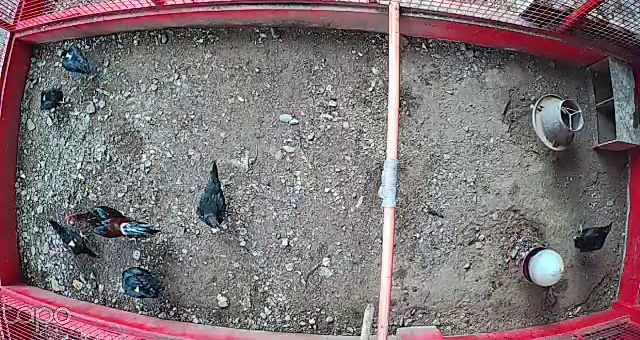Chicken: (44, 216, 103, 264), (197, 158, 232, 237), (118, 265, 168, 304), (571, 218, 616, 252), (56, 48, 98, 80), (38, 87, 68, 112)
Rooster: (65, 205, 164, 245)
Saddle_Color_Blue: (43, 94, 46, 102)
Saddle_Color_White: (65, 53, 73, 59)
Saddle_Color_Yellow: (67, 237, 79, 246)
